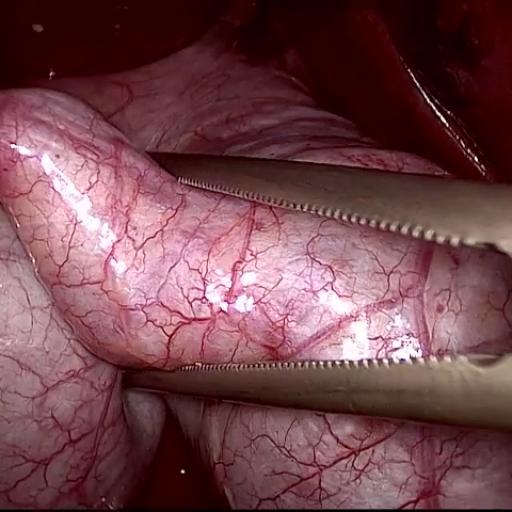Grasper: (76, 92, 512, 458)
